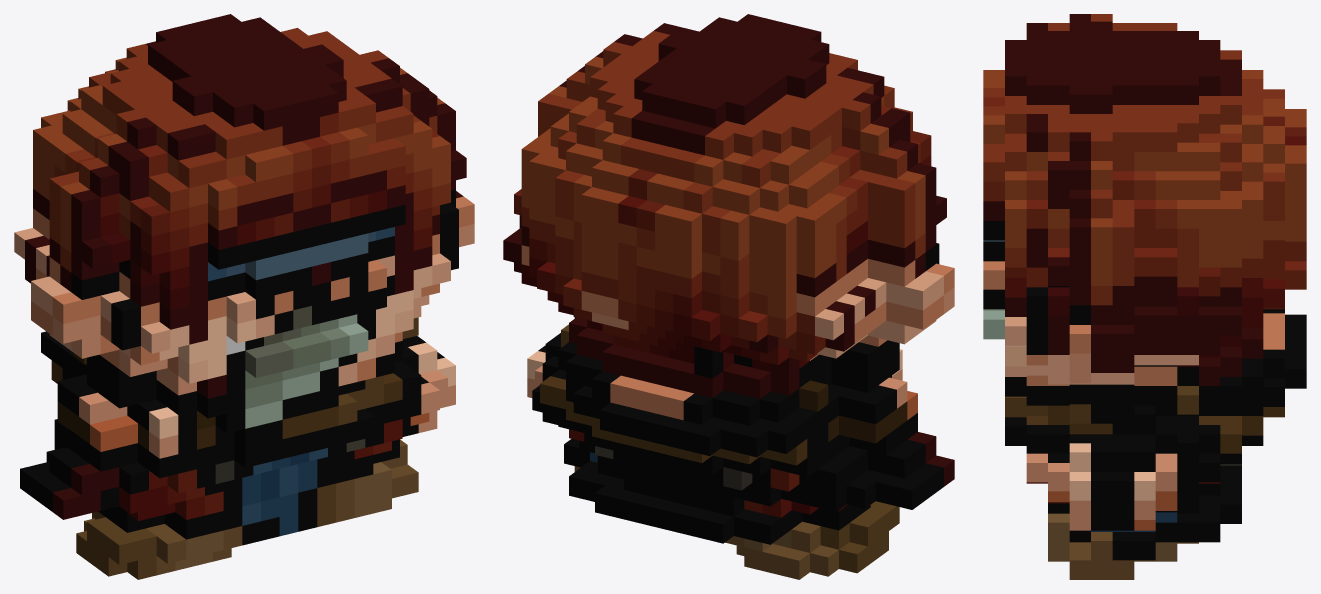
Rendered from Icon_005_03.obj.
The picture shows the model from 3 angles, left to right: view 1: azimuth 30°, elevation 25°; view 2: azimuth 150°, elevation 25°; view 3: azimuth 270°, elevation 25°; orthographic projection.
Bounding box in the file's own units: 2.2 × 2.4 × 1.5.
